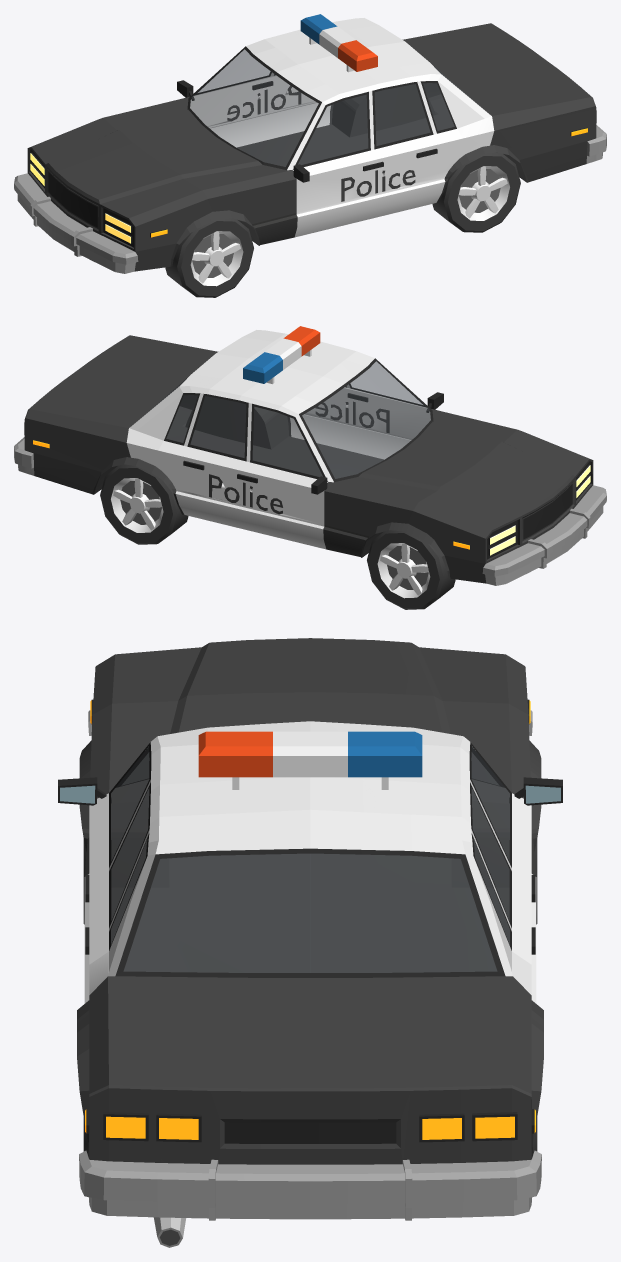
File: police-sedan.glb
3 renders of one model, top to bottom at view 1: azimuth 30°, elevation 25°; view 2: azimuth 150°, elevation 25°; view 3: azimuth 270°, elevation 25°, orthographic. The views are drawn at different scales.
Parts seen in each view (by area): view 1: Police Car N_4, Police Car N_4 FL Tire, Police Car N_4 BL Tire; view 2: Police Car N_4, Police Car N_4 FR Tire, Police Car N_4 BR Tire; view 3: Police Car N_4.
Part boxes in pixels (<box>): Police Car N_4: <box>14,14,606,273</box>; Police Car N_4 FL Tire: <box>165,218,253,297</box>; Police Car N_4 BL Tire: <box>432,152,520,232</box>; Police Car N_4: <box>14,326,606,585</box>; Police Car N_4 FR Tire: <box>367,530,455,609</box>; Police Car N_4 BR Tire: <box>100,464,188,544</box>; Police Car N_4: <box>58,638,562,1247</box>.
Size of the model in its own units: 5.18 by 1.74 by 2.22.
3 materials, 2 textured.
